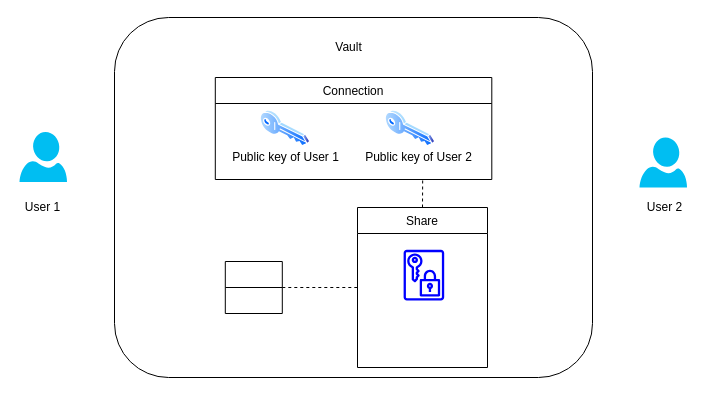
Some shapes in this 707 by 395 pixel diagram are drawn without their labels. Here are the shapes that lost their labels. From the top down, the centre of each, then its label:
At [253,287]: "Item".
At [423,274]: "Data encryption key".
